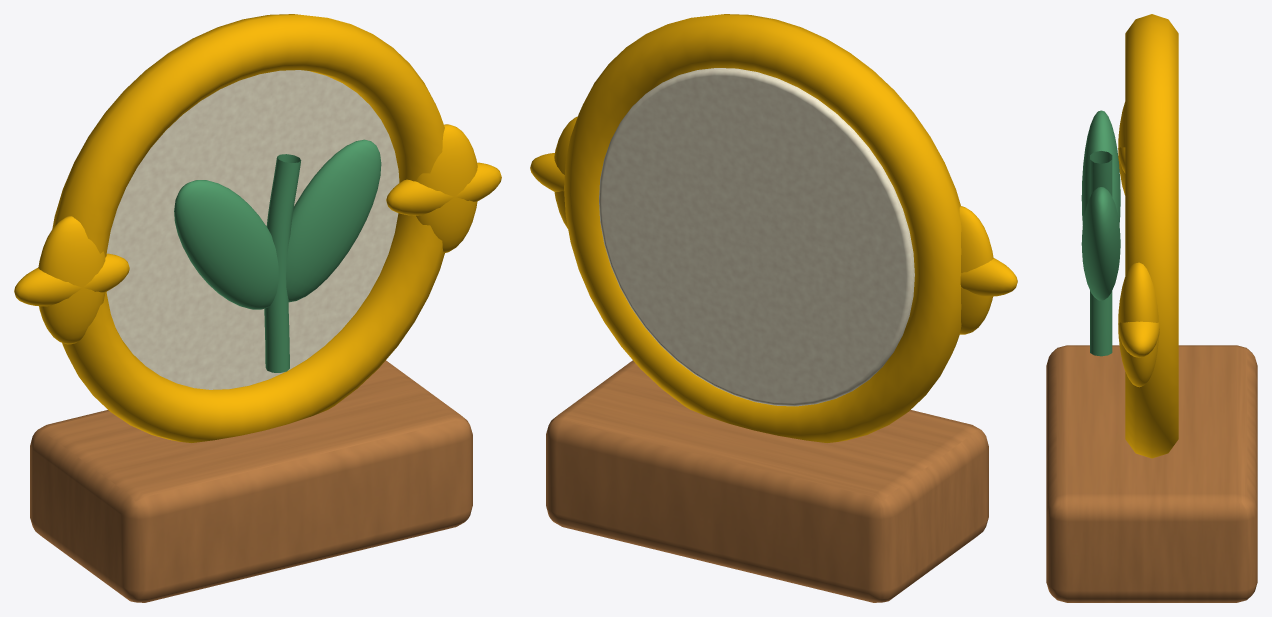
The model's file is display-tidy.glb.
3 views of the same model, side by side, from view 1: azimuth 30°, elevation 25°; view 2: azimuth 150°, elevation 25°; view 3: azimuth 270°, elevation 25° (orthographic). The views are drawn at different scales.
Parts seen in each view (by area): view 1: Wooden award plinth.001, Gold medallion rim.001, Inset medallion.001, Leaf, Leaf.001, Gold sparkle.004, Sprout stem, Gold sparkle.006, Gold sparkle.005, Gold sparkle.007; view 2: Inset medallion.001, Wooden award plinth.001, Gold medallion rim.001, Gold sparkle.004, Gold sparkle.005, Gold sparkle.007, Gold sparkle.006; view 3: Wooden award plinth.001, Gold medallion rim.001, Leaf.001, Gold sparkle.006, Sprout stem, Leaf, Gold sparkle.007, Gold sparkle.004.
Boxes of the visible parts, x1,y1,x2,y2 form: Wooden award plinth.001: (30,360,472,602); Gold medallion rim.001: (52,14,444,442); Inset medallion.001: (106,70,399,389); Leaf: (174,180,278,309); Leaf.001: (286,139,381,302); Gold sparkle.004: (38,216,105,344); Sprout stem: (264,154,301,372); Gold sparkle.006: (416,124,477,252); Gold sparkle.005: (14,253,129,306); Gold sparkle.007: (386,162,501,215); Inset medallion.001: (599,68,914,406); Wooden award plinth.001: (546,360,988,602); Gold medallion rim.001: (564,14,961,442); Gold sparkle.004: (959,206,993,334); Gold sparkle.005: (960,258,1017,296); Gold sparkle.007: (530,153,564,191); Gold sparkle.006: (554,116,577,228); Wooden award plinth.001: (1046,345,1257,602); Gold medallion rim.001: (1125,14,1178,458); Leaf.001: (1081,187,1120,300); Gold sparkle.006: (1118,262,1158,387); Sprout stem: (1090,151,1112,356); Leaf: (1081,110,1120,225); Gold sparkle.007: (1118,321,1159,357); Gold sparkle.004: (1118,102,1125,195).
Bounding box in the file's own units: 0.64 × 0.643 × 0.25.
Materials: 4 (2 with a texture image).
